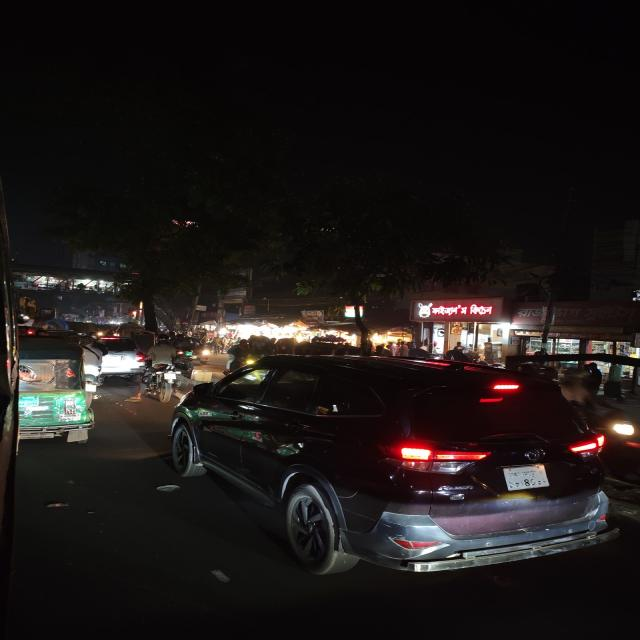car: (165, 343, 616, 577), (94, 335, 146, 381)
cng: (9, 331, 104, 449)
motorcycle: (142, 334, 180, 395), (170, 330, 202, 361)
